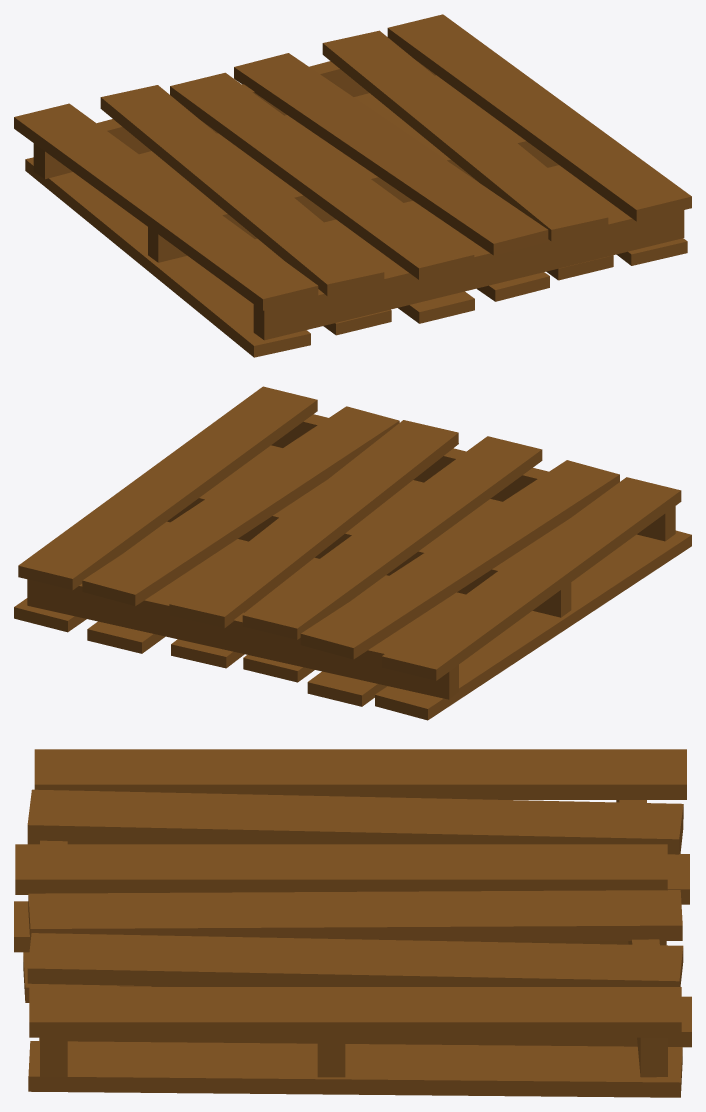
Rendered from mesh_ShippingPallet_v2.fbx.
3 views of the same model, one above another, from view 1: azimuth 30°, elevation 25°; view 2: azimuth 150°, elevation 25°; view 3: azimuth 270°, elevation 25° (orthographic). The views are drawn at different scales.
Parts seen in each view (by area): view 1: mesh_ShippingPallet_v2_0; view 2: mesh_ShippingPallet_v2_0; view 3: mesh_ShippingPallet_v2_0.
Part boxes in pixels (x1,y1,x2,y2): mesh_ShippingPallet_v2_0: (14,14,691,357); mesh_ShippingPallet_v2_0: (14,386,691,720); mesh_ShippingPallet_v2_0: (14,749,691,1097).
Bounding box in the file's own units: 106 × 12.99 × 108.
